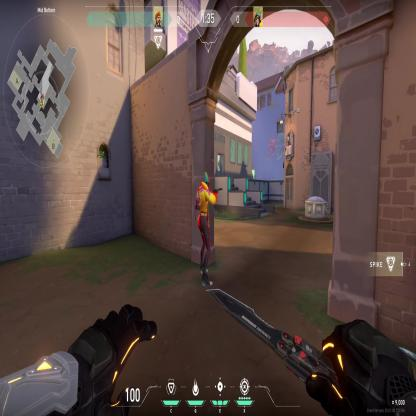enemy: (195, 169, 216, 290)
